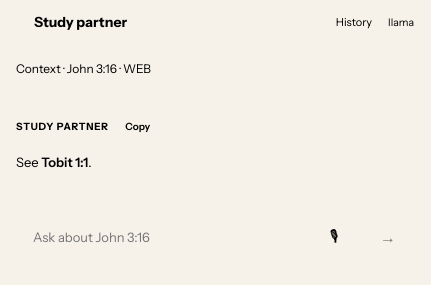
StudyPartner › shows non-destructive clipboard and unavailable-reference errors
Click the button with class "copy-response". click: (138, 126)
box: [116,104,160,148]
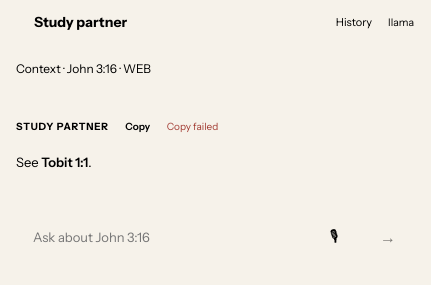
Now the message with class "error" reads "Copy failed", box [167,120,218,132]
Click the link "Tobit 1:1". click: (65, 162)
box: [41,154,88,170]
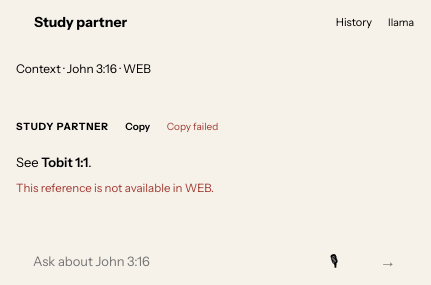
Now the message with class "reference-error" reads "This reference is not available in WEB.", box [16,181,214,195]
